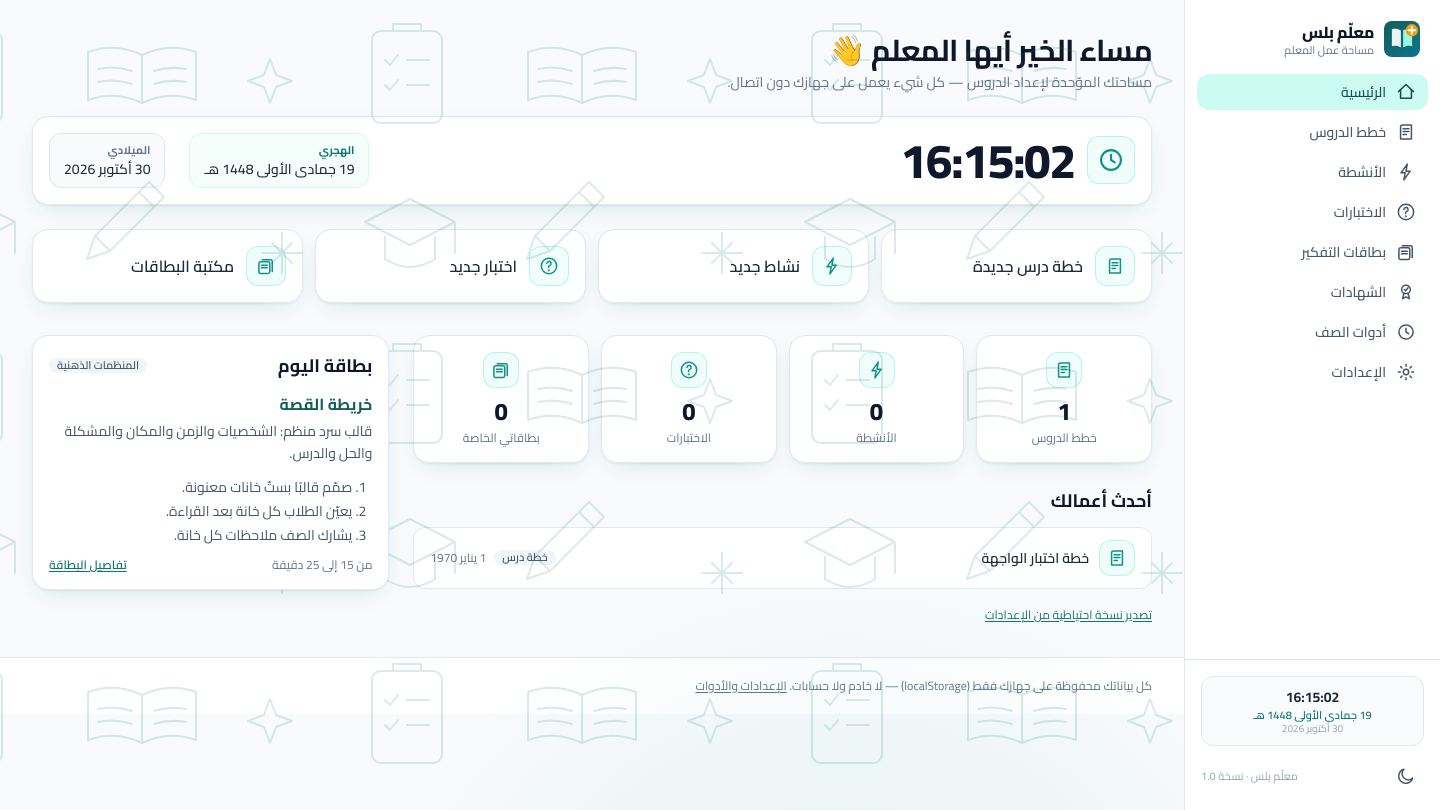
Test: تكامل البيانات عبر المكونات › خطة محفوظة مسبقًا في localStorage تظهر في قائمة الخطط
What coordinates should you click on to do the following:
click the link "خطط الدروس"
I would click on:
 (1363, 132)
Its box is [1309,119,1416,145].
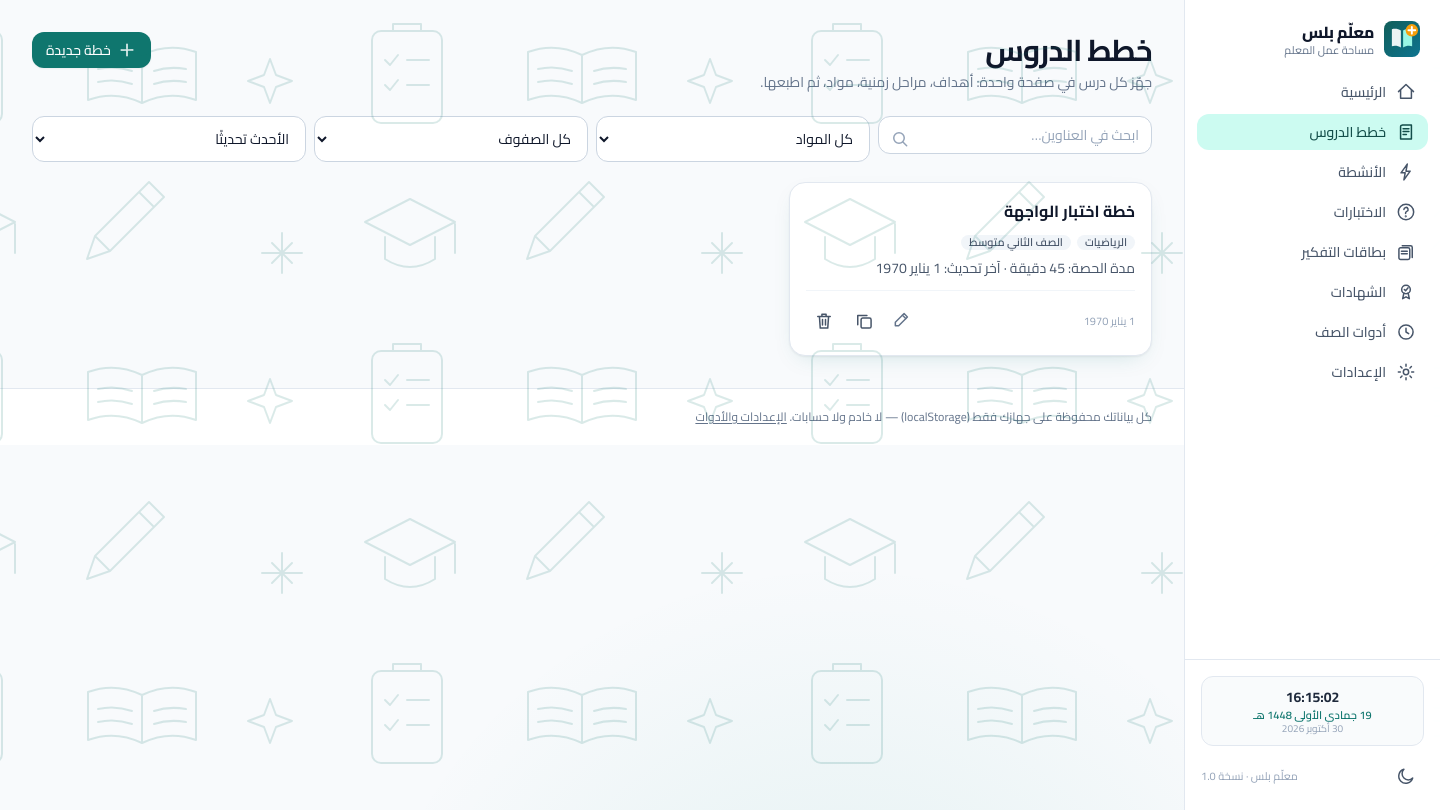
Expected: the link "خطة اختبار الواجهة" is shown, [1004,199,1135,223]
Now the list named "قائمة العناصر" is shown, box [789,182,1152,356]
